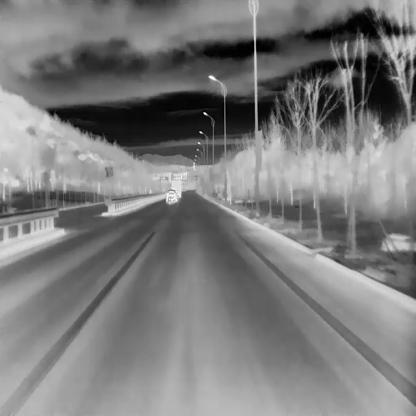car: (165, 188, 178, 202)
truck: (171, 180, 181, 196)
